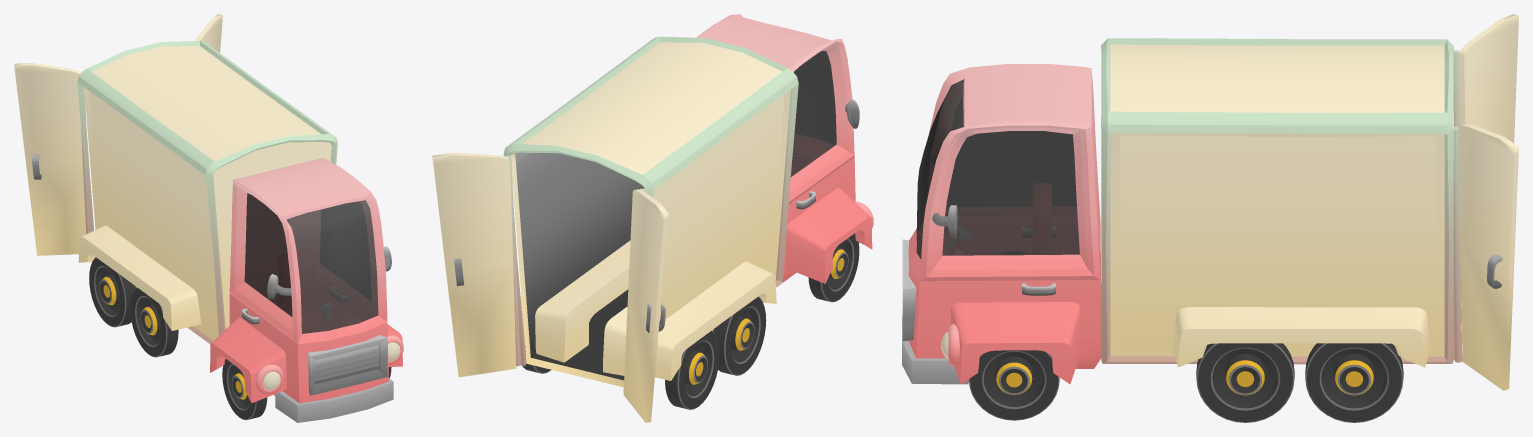
File: LKW2.glb
3 renders of one model, left to right at view 1: azimuth 30°, elevation 25°; view 2: azimuth 150°, elevation 25°; view 3: azimuth 270°, elevation 25°, orthographic. The views are drawn at different scales.
Visible parts, largest first — view 1: Wagen.002, LKW-Kabine, Räder.002, Räder.001; view 2: Wagen.002, LKW-Kabine, Räder.002, Räder.001; view 3: Wagen.002, LKW-Kabine, Räder.002, Räder.001.
Part boxes in pixels (bbox=[...]): Wagen.002: bbox=[14, 14, 337, 343]; LKW-Kabine: bbox=[210, 158, 403, 422]; Räder.002: bbox=[89, 257, 178, 357]; Räder.001: bbox=[222, 359, 391, 420]; Wagen.002: bbox=[432, 36, 798, 422]; LKW-Kabine: bbox=[696, 14, 873, 286]; Räder.002: bbox=[522, 296, 766, 409]; Räder.001: bbox=[808, 233, 859, 302]; Wagen.002: bbox=[1101, 14, 1518, 390]; LKW-Kabine: bbox=[902, 64, 1101, 384]; Räder.002: bbox=[1196, 343, 1403, 422]; Räder.001: bbox=[969, 350, 1059, 420].
Size of the model in its own units: 4.28 by 4.62 by 8.27.
4 materials, 3 textured.
